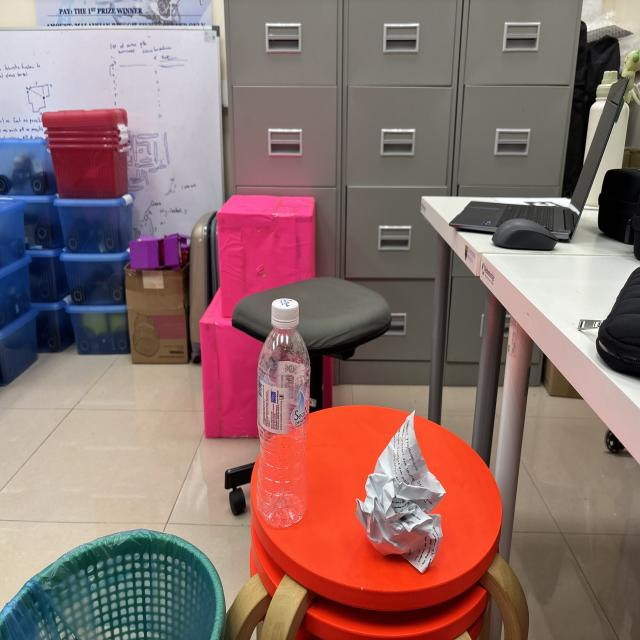crumpled_paper: (350, 400, 453, 581)
plastic_bottle: (251, 290, 320, 536)
